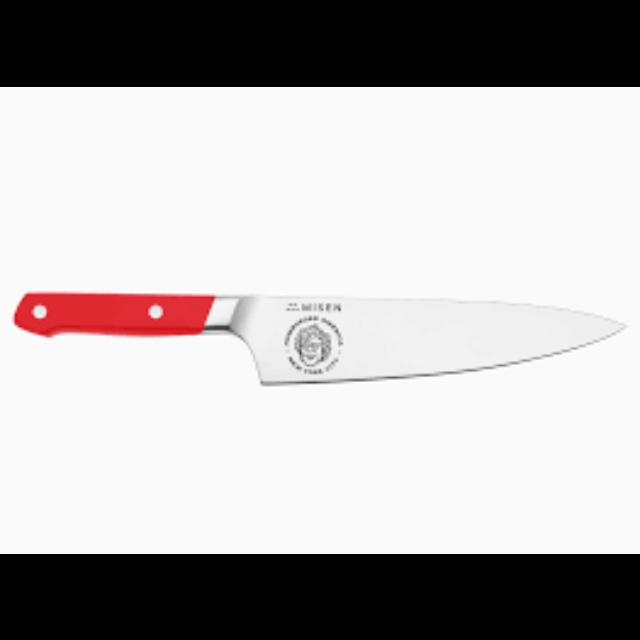knife: (12, 288, 626, 386)
